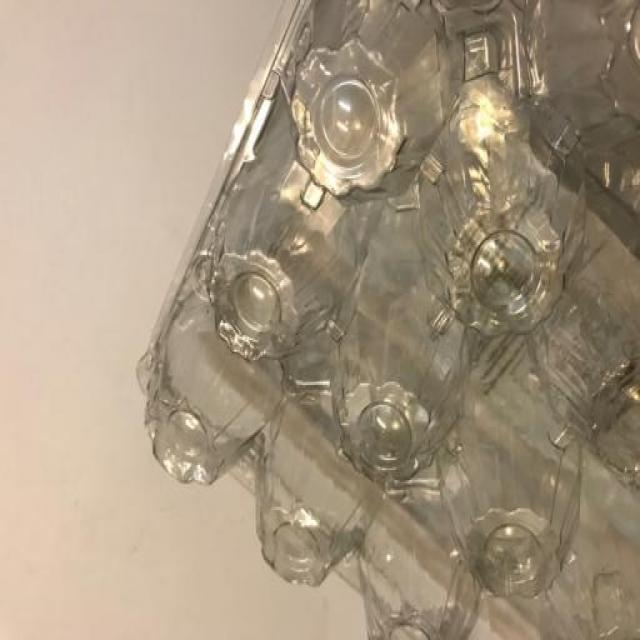Plastic: (135, 0, 640, 640)
